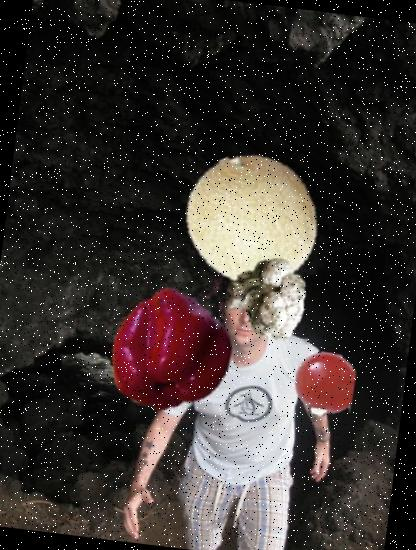Cantaloupe: (176, 146, 326, 296)
Cauliflower: (218, 252, 314, 348)
Pepper: (101, 280, 243, 422)
Redcurrant: (288, 348, 360, 420)
